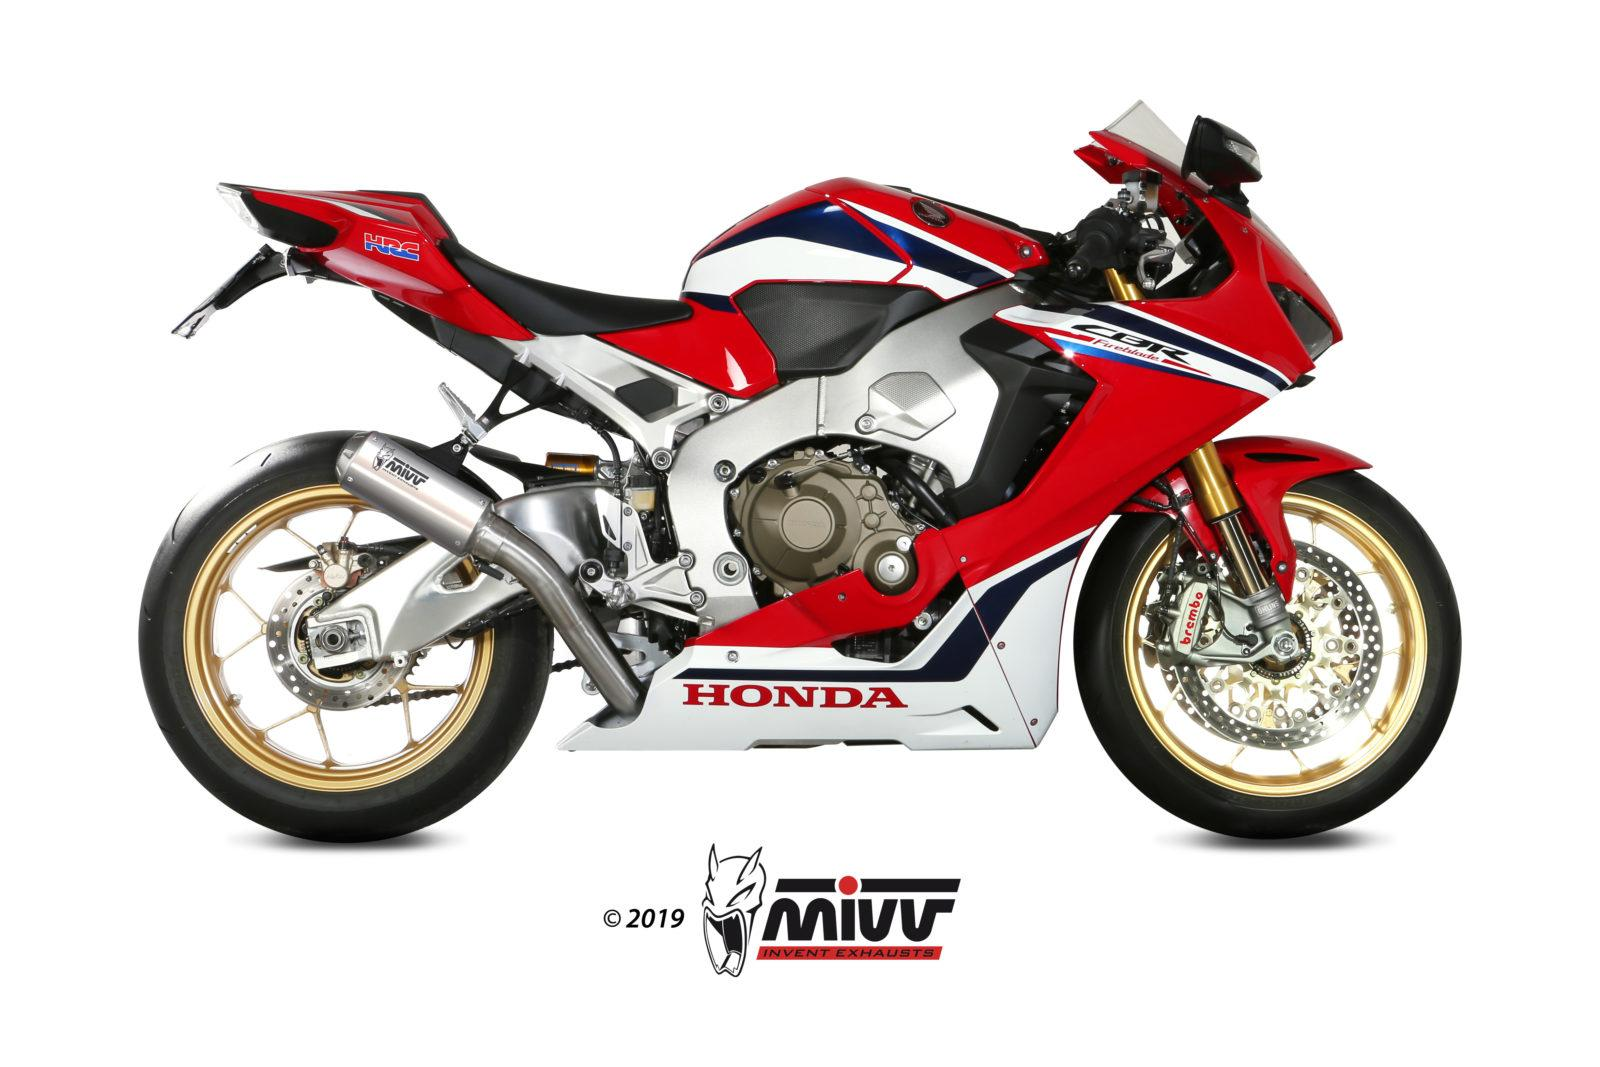engine-chasis: (554, 282, 1036, 751), (545, 453, 631, 481)
exhaust: (335, 430, 648, 716)
frontside: (938, 99, 1374, 747)
handlebar: (1023, 169, 1232, 300), (1181, 113, 1263, 218)
motorbike: (138, 101, 1463, 841)
rearside: (170, 181, 729, 690), (307, 539, 527, 669)
seat: (439, 238, 694, 336), (323, 191, 458, 242)
tank: (593, 176, 1052, 399)
watermark: (574, 829, 995, 1006)
wheel: (138, 430, 555, 843), (1073, 470, 1462, 841), (1123, 476, 1258, 645), (549, 659, 582, 675)
